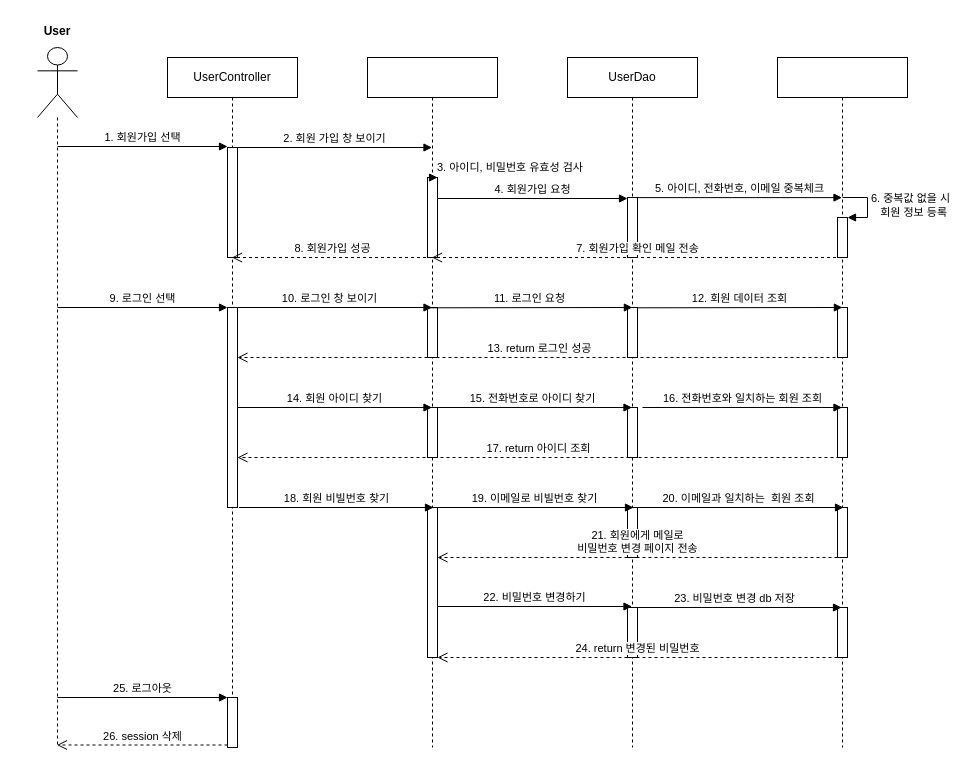
This 967x772 diagram has some shape labels left out. The centre of each missing label's shape, as x and y in pixels:
DB: the point at 842,402
UserService: the point at 432,402
